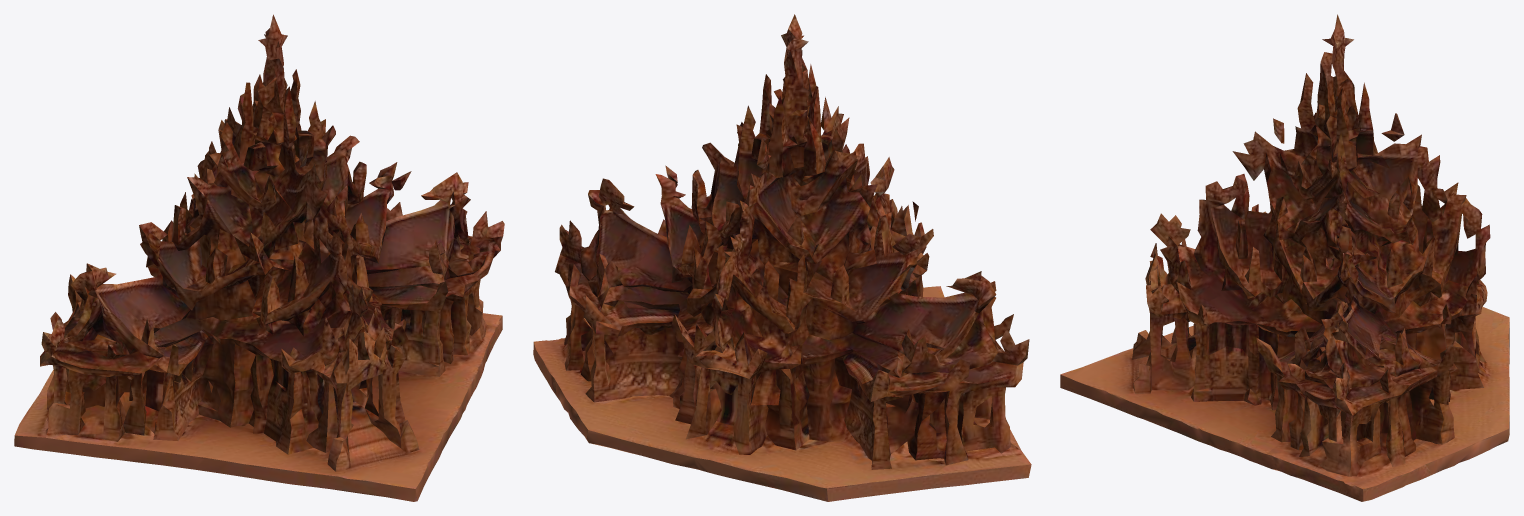
Rendered from sanctuary-of-truth.glb.
The picture shows the model from 3 angles, left to right: view 1: azimuth 30°, elevation 25°; view 2: azimuth 150°, elevation 25°; view 3: azimuth 270°, elevation 25°; orthographic projection. The views are drawn at different scales.
Parts seen in each view (by area): view 1: logan-textured.obj; view 2: logan-textured.obj; view 3: logan-textured.obj.
Part boxes in pixels (x1=…): logan-textured.obj: x1=14, y1=14, x2=504, y2=501; logan-textured.obj: x1=533, y1=14, x2=1031, y2=501; logan-textured.obj: x1=1060, y1=14, x2=1509, y2=501.
Size of the model in its own units: 1 by 0.752 by 0.8204.
Materials: 1 (1 with a texture image).
